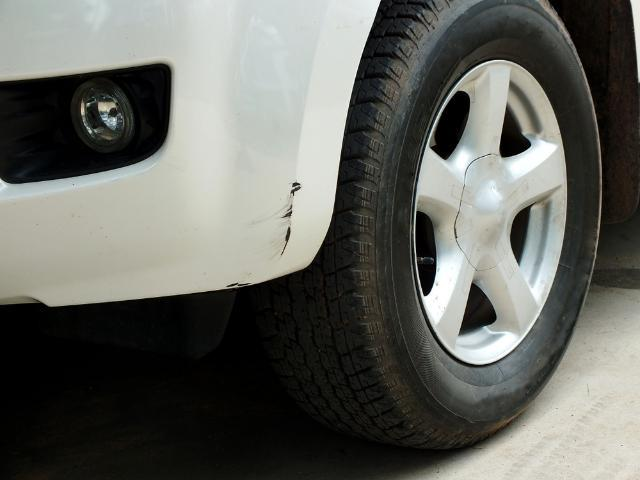scratch: (247, 181, 302, 256)
